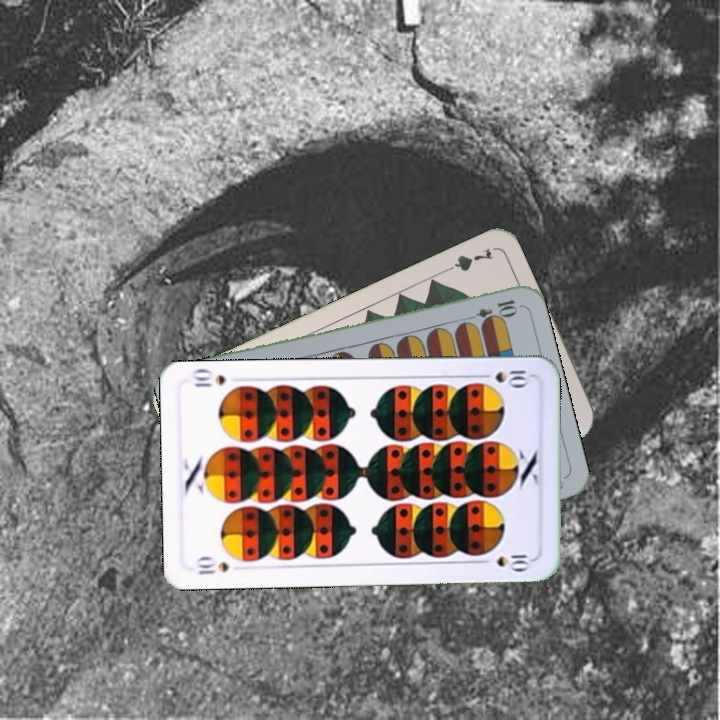E10: (461, 295, 520, 325)
G7: (438, 244, 496, 276)
S10: (474, 366, 533, 389), (193, 553, 233, 577)
